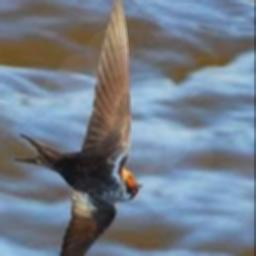Swallow: (14, 0, 142, 256)
